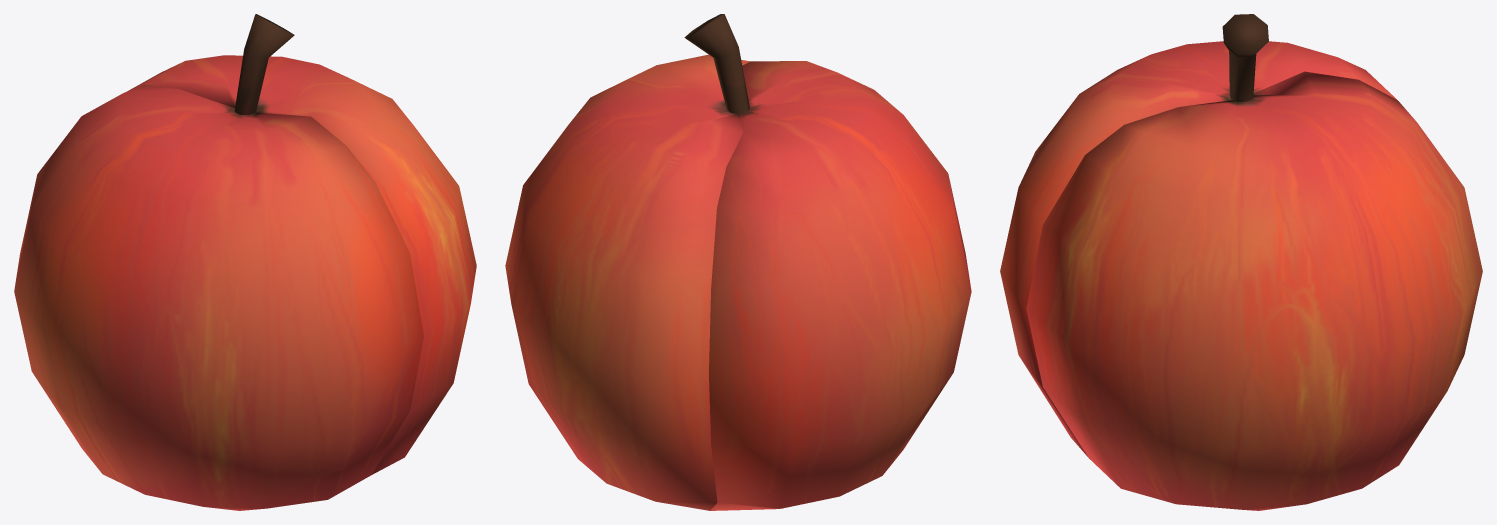
The model's file is SM_AppleCut.fbx.
The picture shows the model from 3 angles, left to right: view 1: azimuth 30°, elevation 25°; view 2: azimuth 150°, elevation 25°; view 3: azimuth 270°, elevation 25°; orthographic projection. The views are drawn at different scales.
Parts seen in each view (by area): view 1: SM_AppleCut_1, SM_AppleCut_2; view 2: SM_AppleCut_1, SM_AppleCut_2; view 3: SM_AppleCut_2, SM_AppleCut_1.
Part boxes in pixels (box(x1,y1,x2,y2)): SM_AppleCut_1: box(14, 84, 423, 510); SM_AppleCut_2: box(127, 14, 476, 474); SM_AppleCut_1: box(709, 61, 971, 510); SM_AppleCut_2: box(505, 14, 749, 510); SM_AppleCut_2: box(1026, 14, 1482, 510); SM_AppleCut_1: box(1000, 41, 1396, 457).
Size of the model in its own units: 20 by 21.61 by 20.
2 materials, 2 textured.
